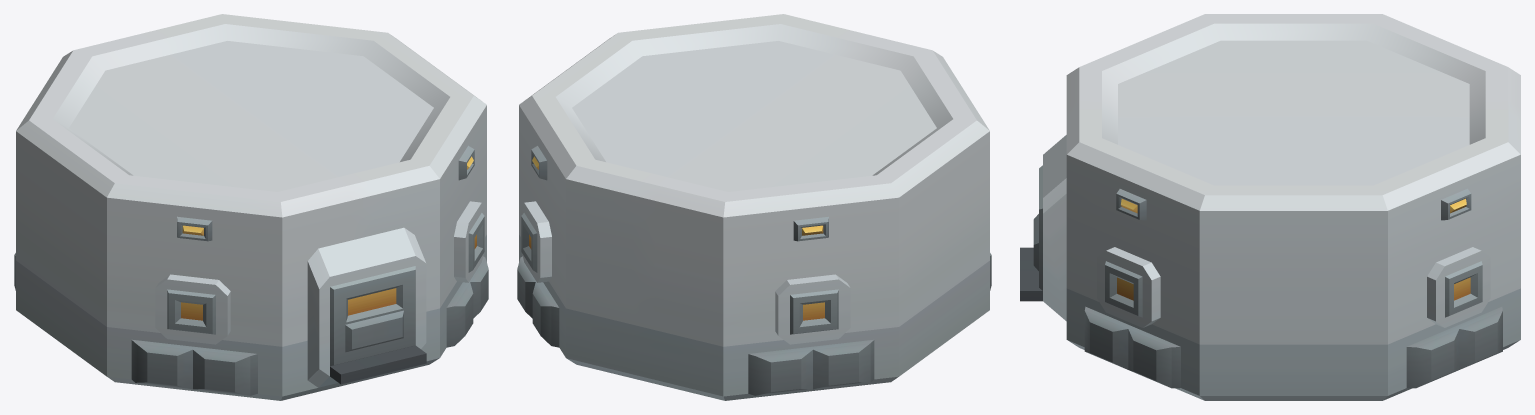
Rendered from kay-modulo-laboratorio.gltf.
The picture shows the model from 3 angles, left to right: view 1: azimuth 30°, elevation 25°; view 2: azimuth 150°, elevation 25°; view 3: azimuth 270°, elevation 25°; orthographic projection. The views are drawn at different scales.
Parts seen in each view (by area): view 1: basemodule_C; view 2: basemodule_C; view 3: basemodule_C.
Part boxes in pixels (x1,y1,x2,y2): basemodule_C: (14, 14, 488, 400); basemodule_C: (517, 14, 991, 400); basemodule_C: (1020, 14, 1520, 400).
Bounding box in the file's own units: 5.2 × 2.6 × 5.73.
Materials: 1 (1 with a texture image).
